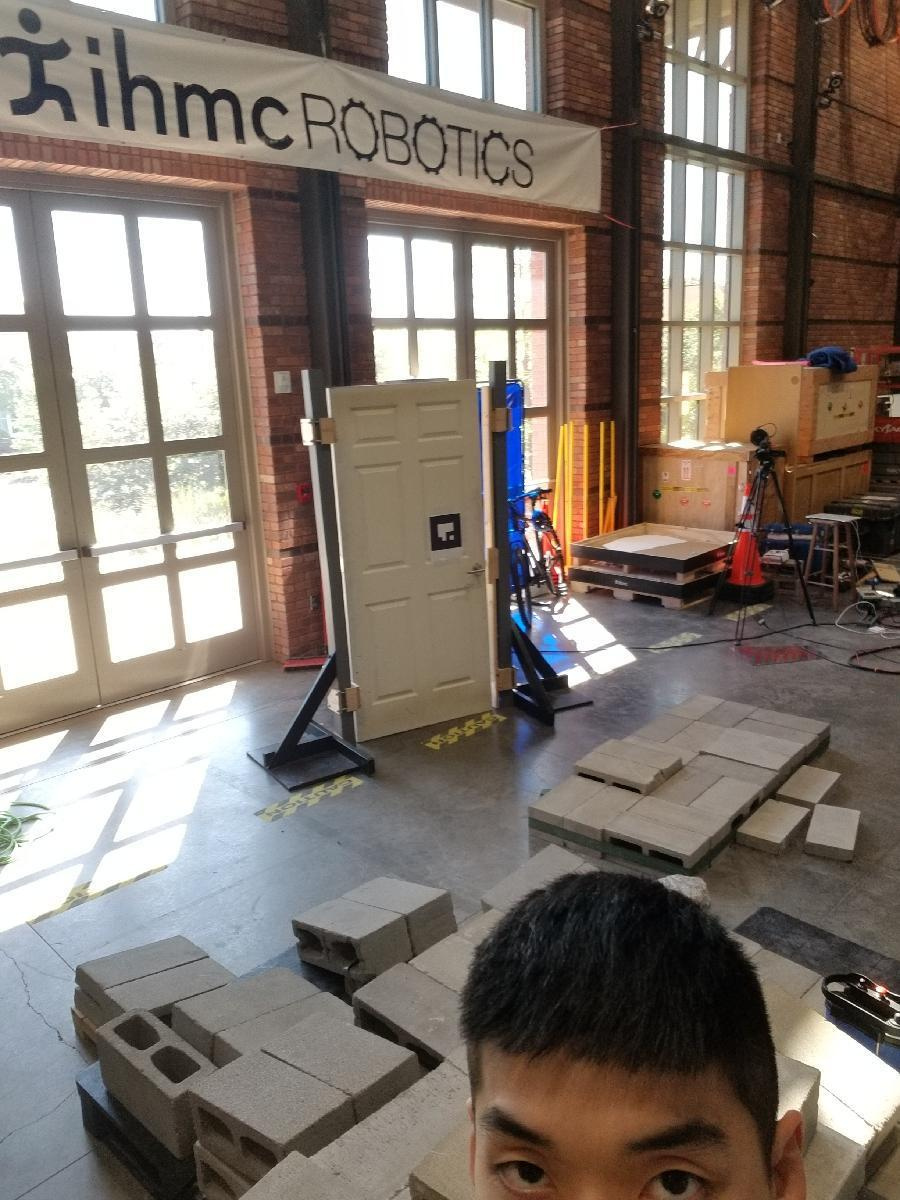door: (330, 393, 500, 725)
